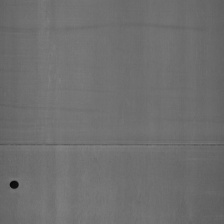punching_hole: (0, 137, 222, 150), (8, 178, 20, 192)
